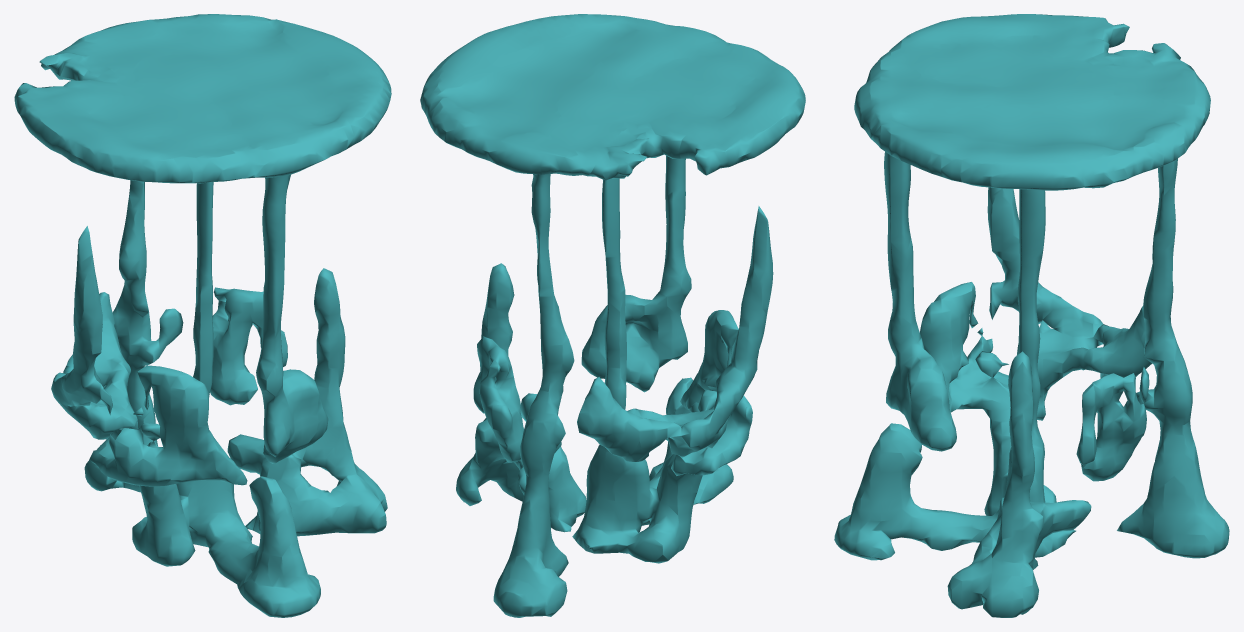
File: lamp_7_4.obj
3 views of the same model, side by side, from view 1: azimuth 30°, elevation 25°; view 2: azimuth 150°, elevation 25°; view 3: azimuth 270°, elevation 25° (orthographic).
Size of the model in its own units: 0.5823 by 0.7918 by 0.6107.
